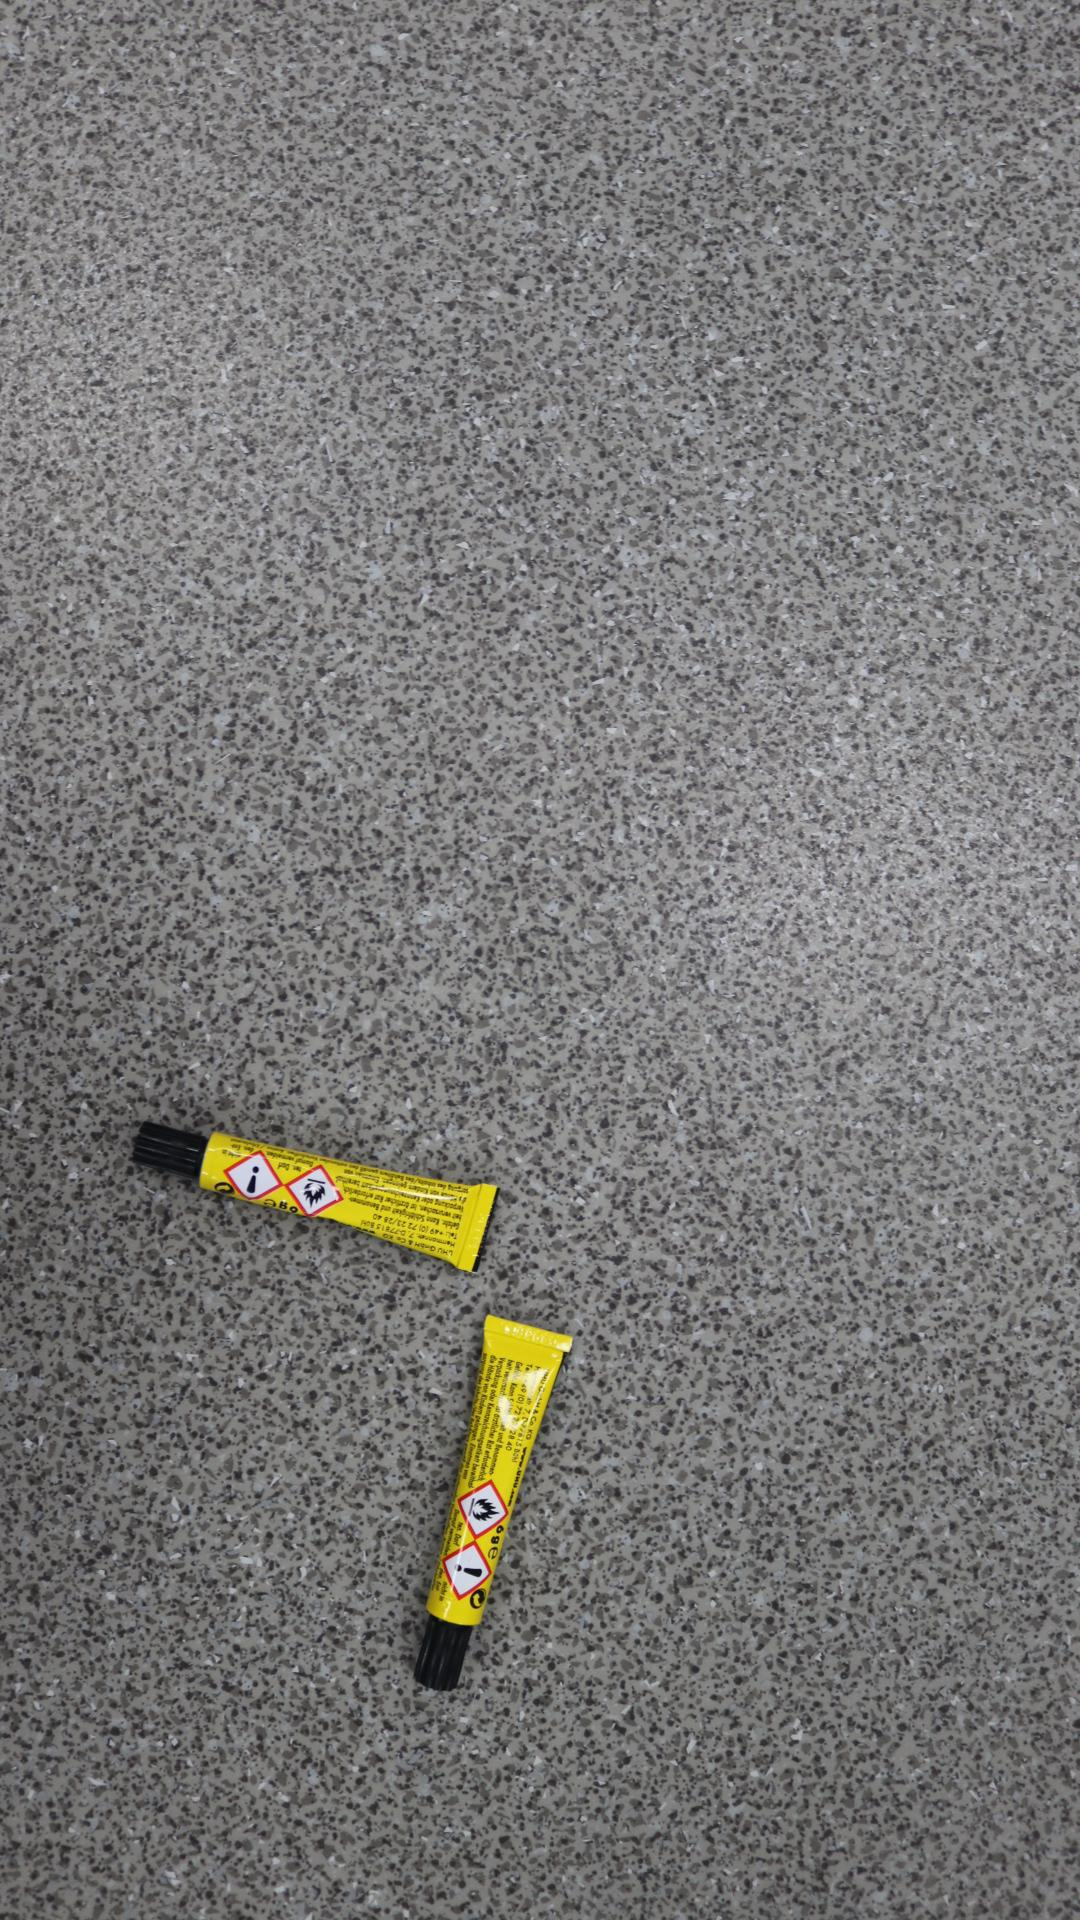Head: (167, 1146, 173, 1152), (440, 1649, 446, 1655)
Tail: (474, 1225, 480, 1231), (526, 1331, 532, 1337)
Tube: (413, 1315, 574, 1692), (131, 1120, 501, 1274)
